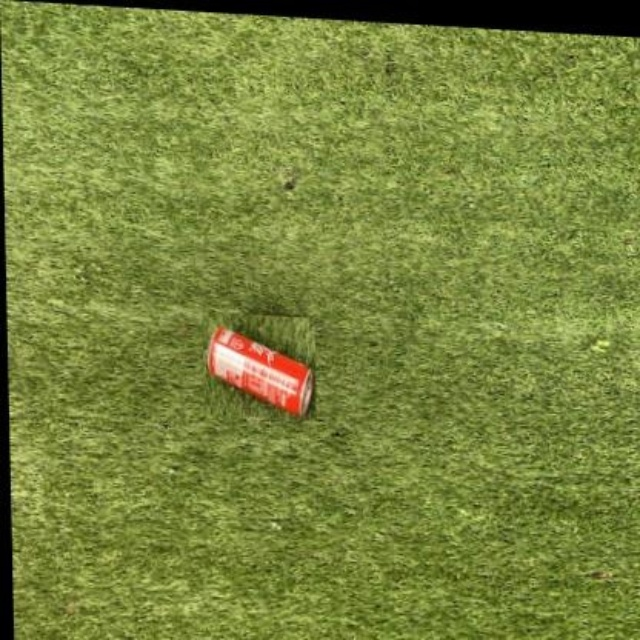trash: (208, 326, 312, 415)
